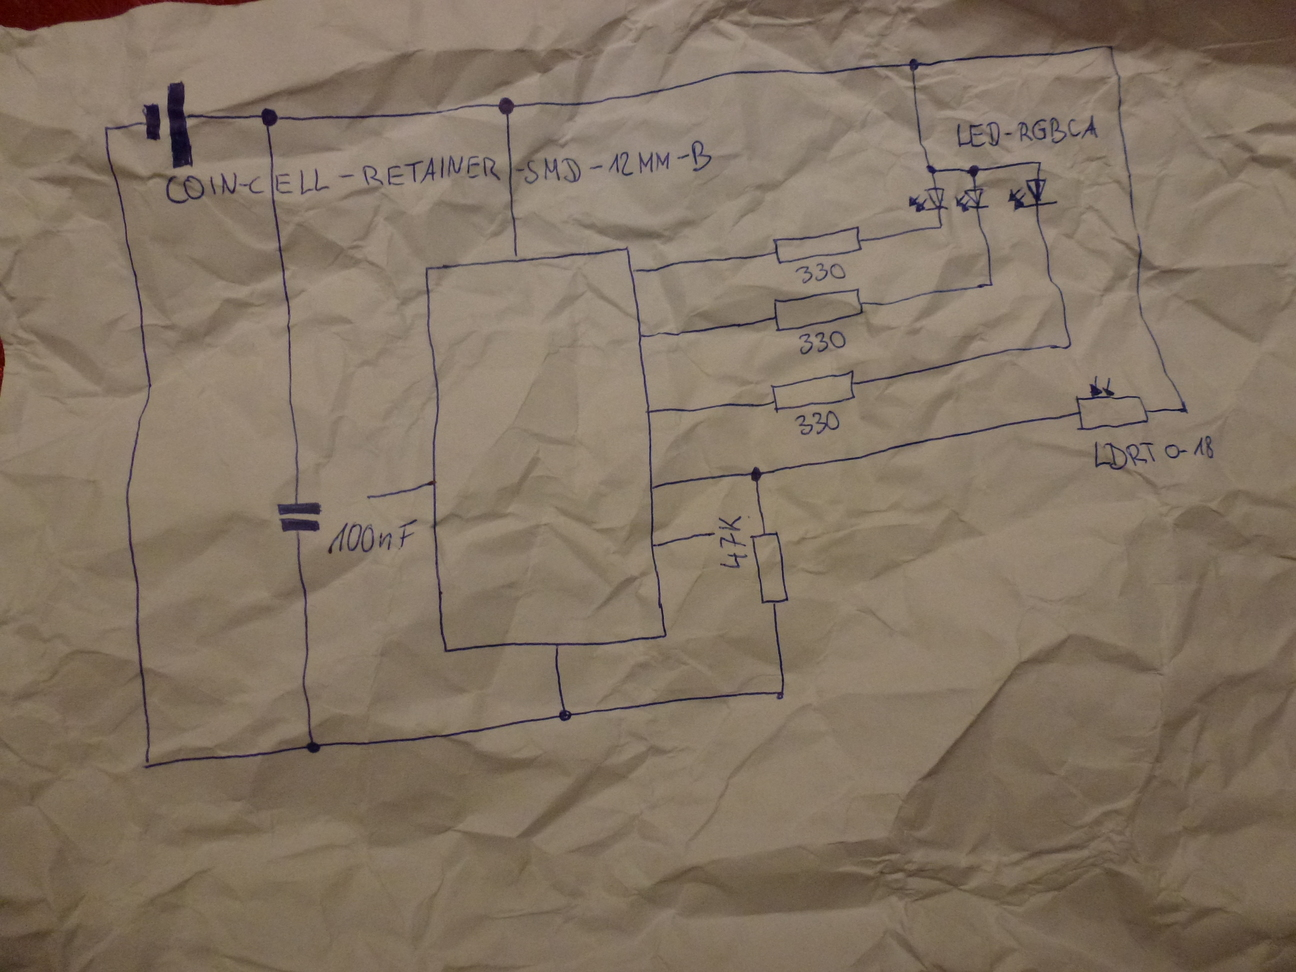capacitor.unpolarized: (273, 500, 325, 538)
diode.light_emitting: (1005, 174, 1064, 215), (916, 188, 955, 217), (954, 187, 990, 215)
integrated_circuit: (419, 242, 671, 657)
junction: (492, 94, 519, 119), (257, 104, 282, 130), (748, 464, 765, 484), (304, 738, 322, 756), (556, 707, 574, 724), (963, 162, 983, 178), (906, 55, 921, 72), (772, 687, 788, 701), (140, 758, 154, 773), (100, 121, 114, 135), (925, 163, 939, 176), (1104, 41, 1116, 53), (1031, 157, 1044, 168), (1177, 402, 1189, 414), (985, 278, 996, 289), (1063, 339, 1074, 350), (934, 222, 945, 232)
resistor: (772, 285, 867, 334), (770, 223, 865, 266), (772, 368, 855, 412), (749, 530, 791, 605)
resistor.photo: (1073, 373, 1152, 434)
text: (165, 138, 716, 207), (951, 115, 1098, 147), (1098, 435, 1216, 471), (325, 514, 415, 557), (793, 257, 850, 288), (795, 328, 847, 358), (716, 520, 745, 573), (792, 409, 841, 438)
voltage.dc: (136, 78, 198, 171)
